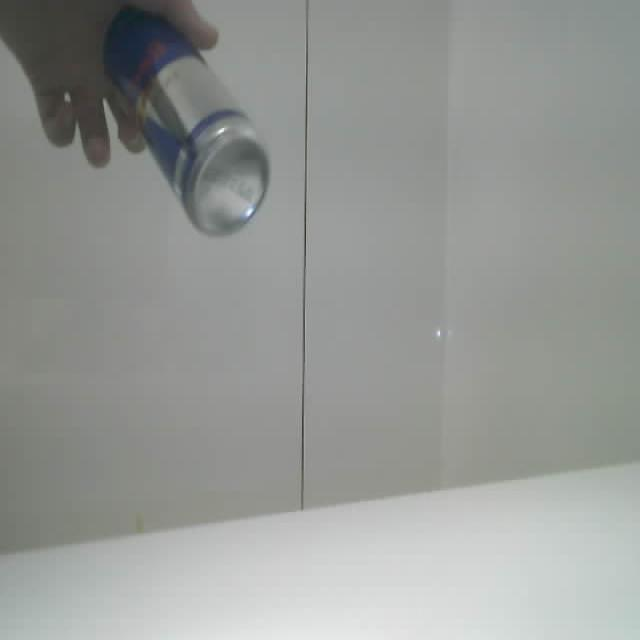redbull can: (104, 7, 268, 235)
